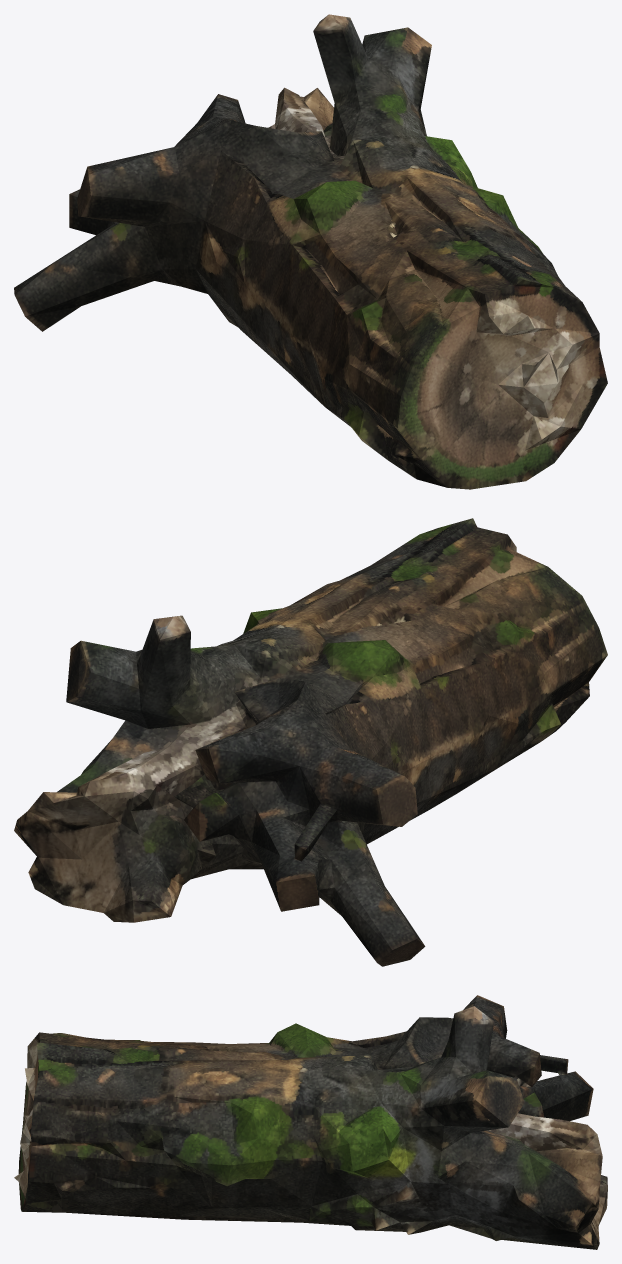
The model's file is log.fbx.
The picture shows the model from 3 angles, top to bottom: view 1: azimuth 30°, elevation 25°; view 2: azimuth 150°, elevation 25°; view 3: azimuth 270°, elevation 25°; orthographic projection. The views are drawn at different scales.
Visible parts, largest first — view 1: Mesh_0; view 2: Mesh_0; view 3: Mesh_0.
Boxes of the visible parts, <box> form: Mesh_0: <box>14,14,607,489</box>; Mesh_0: <box>14,518,607,966</box>; Mesh_0: <box>14,995,607,1249</box>.
Bounding box in the file's own units: 1.34 × 0.9 × 2.04.
Materials: 1 (1 with a texture image).
